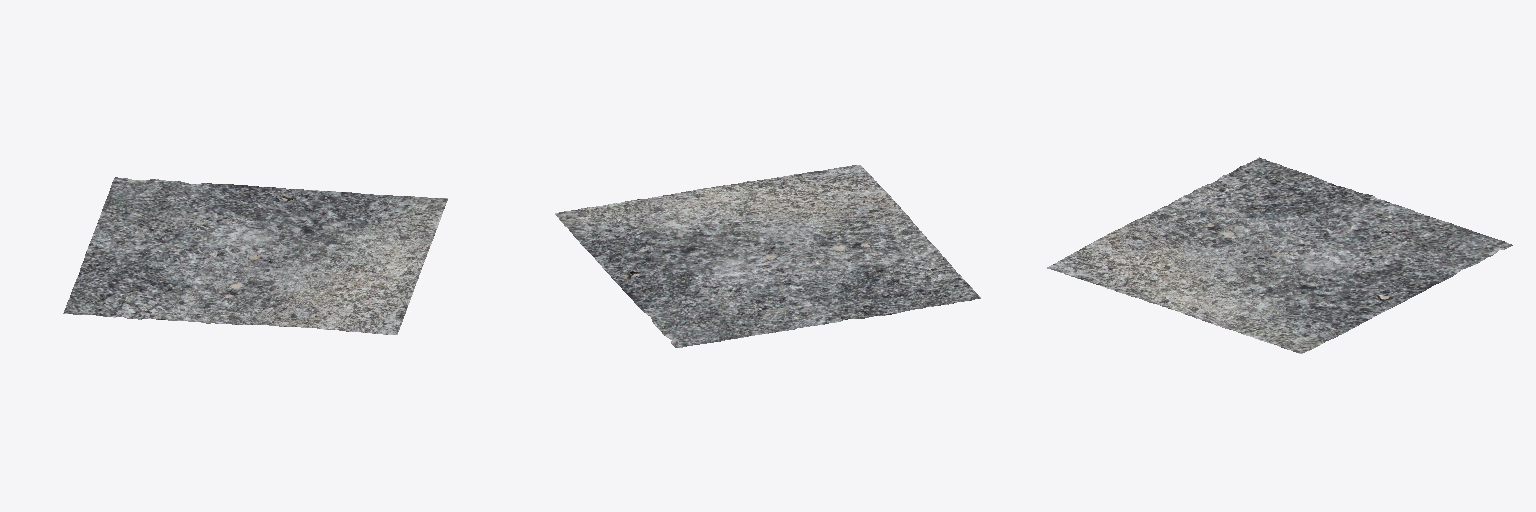
The picture shows the model from 3 angles: view 1: azimuth 30°, elevation 25°; view 2: azimuth 150°, elevation 25°; view 3: azimuth 270°, elevation 25°; orthographic projection.
Visible parts, largest first — view 1: texture_0; view 2: texture_0; view 3: texture_0.
Part boxes in pixels (bbox=[...]): texture_0: bbox=[63, 177, 447, 334]; texture_0: bbox=[555, 165, 980, 347]; texture_0: bbox=[1047, 157, 1512, 353].
Bounding box in the file's own units: 0.5079 × 0.0065 × 0.506.
Materials: 1 (1 with a texture image).